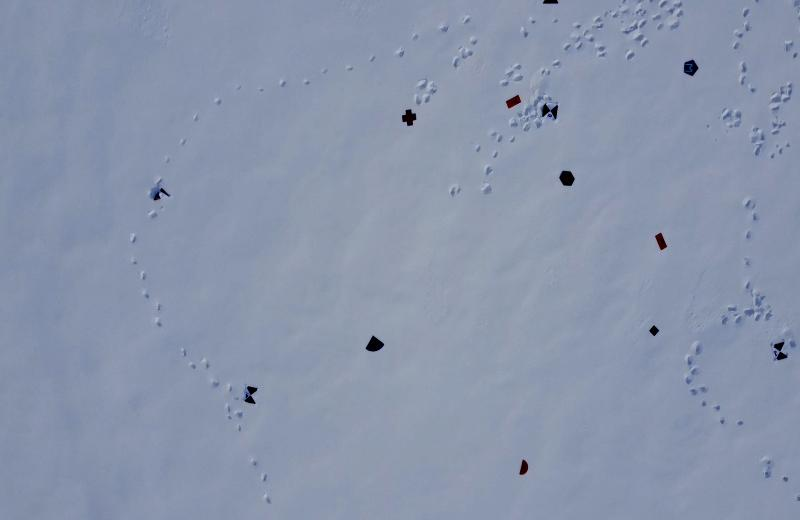Cross: (401, 108, 416, 127)
Hexagon: (559, 168, 575, 188)
Pentagon: (683, 58, 699, 78)
Quarter Circle: (365, 334, 386, 355)
Rectangle: (654, 230, 668, 253), (506, 94, 522, 109)
Semi Circle: (517, 460, 531, 476)
Square: (649, 324, 660, 337)
Triangle: (541, 0, 560, 5)
